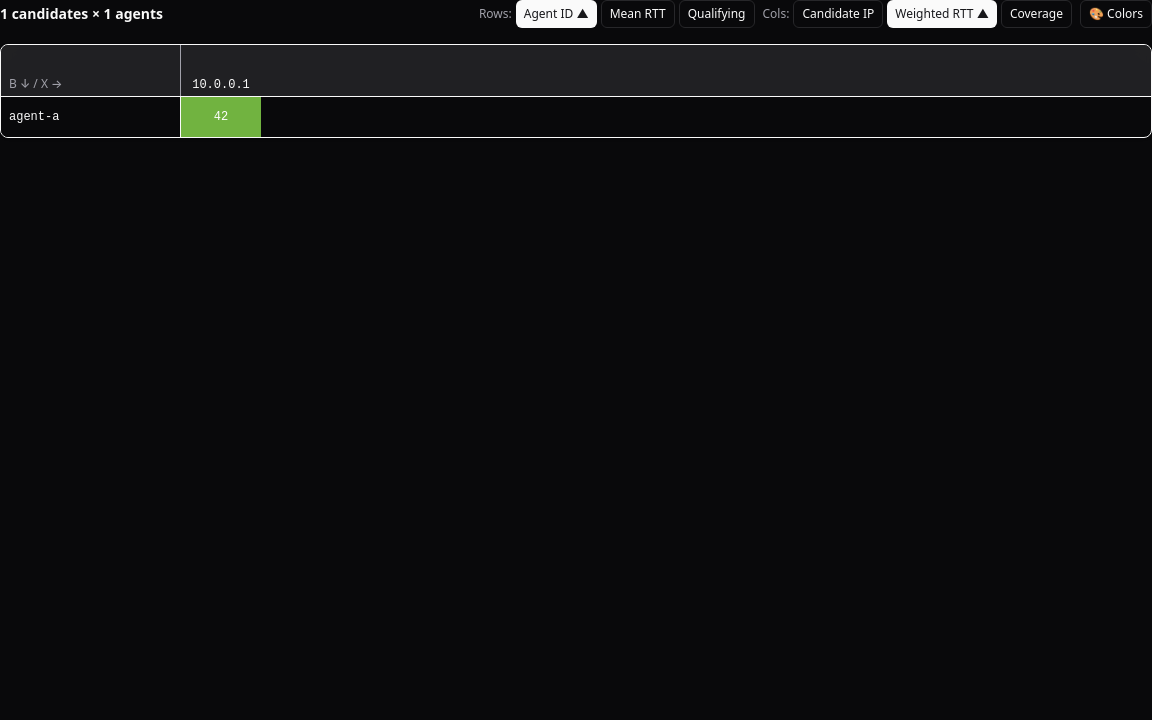
Test case: O3: Sort + cell click › cell click opens drilldown dialog via DrilldownDialog
Click the button with test id "heatmap-cell-10.0.0.1-agent-a". click: (221, 117)
box: [181,97,261,137]
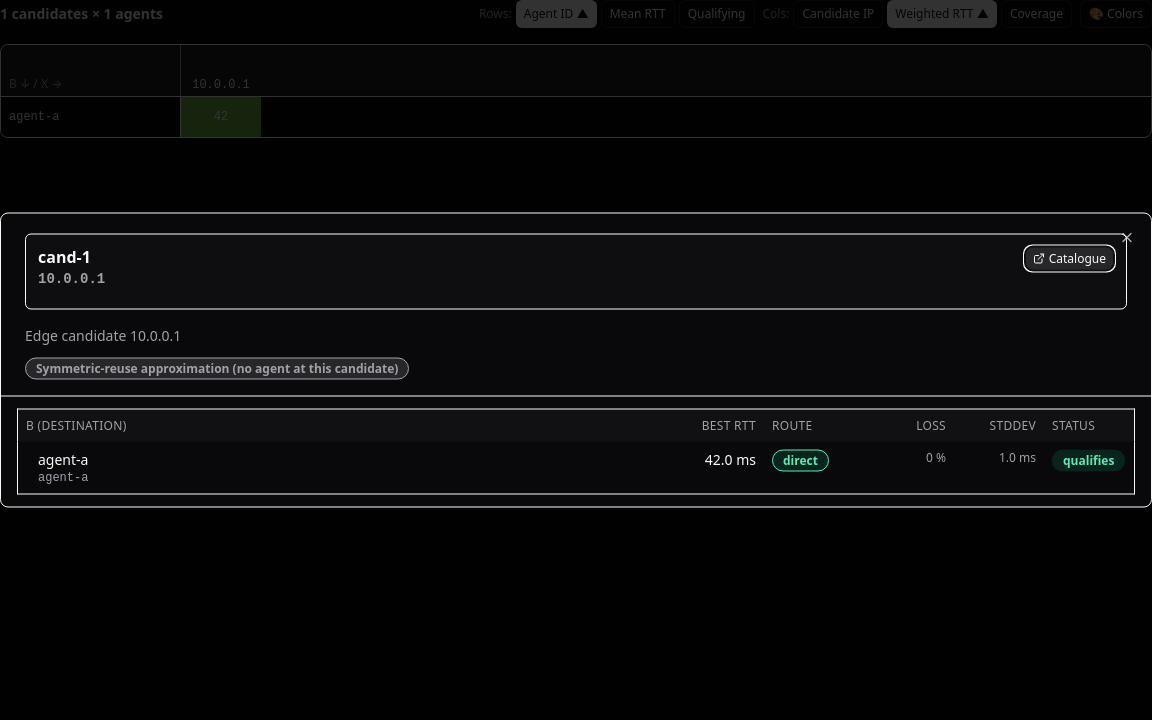
Expected: the dialog is shown, [0,212,1151,508]
